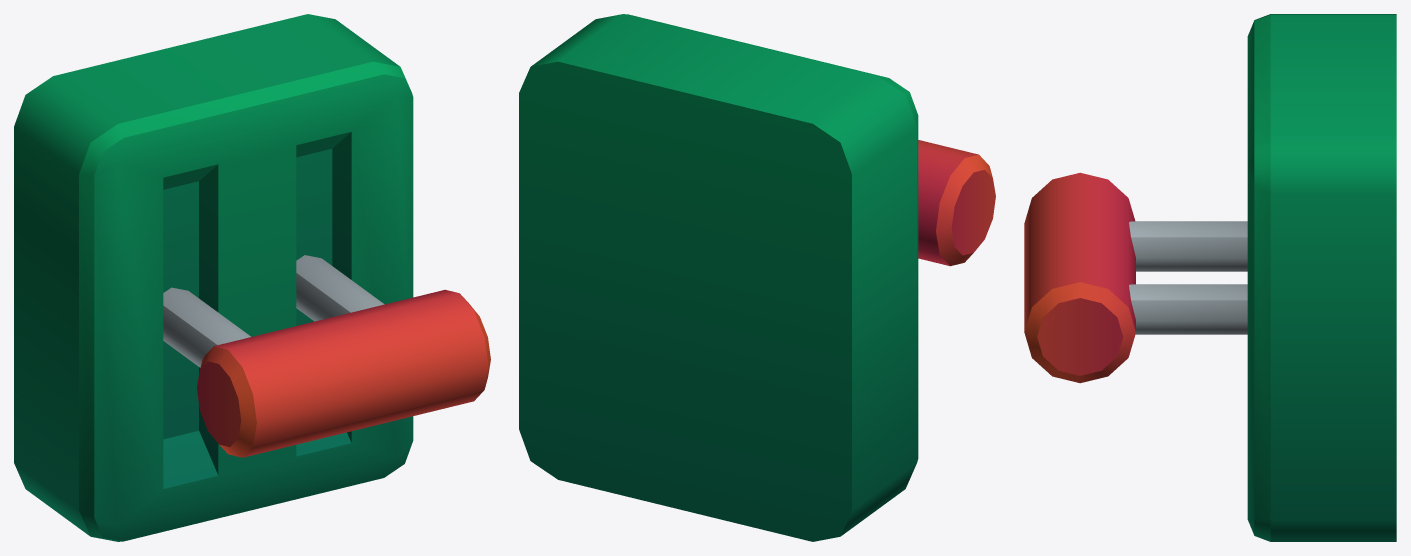
Rendered from lever_wall_base_B_green.glb.
3 renders of one model, left to right at view 1: azimuth 30°, elevation 25°; view 2: azimuth 150°, elevation 25°; view 3: azimuth 270°, elevation 25°, orthographic. The views are drawn at different scales.
Parts seen in each view (by area): view 1: lever_wall_base_B_green, lever_wall_B_green; view 2: lever_wall_base_B_green, lever_wall_B_green; view 3: lever_wall_base_B_green, lever_wall_B_green.
Boxes of the visible parts, x1=… form: lever_wall_base_B_green: x1=14, y1=14, x2=413, y2=541; lever_wall_B_green: x1=163, y1=255, x2=490, y2=457; lever_wall_base_B_green: x1=519, y1=14, x2=918, y2=541; lever_wall_B_green: x1=918, y1=140, x2=995, y2=266; lever_wall_base_B_green: x1=1247, y1=14, x2=1396, y2=541; lever_wall_B_green: x1=1024, y1=172, x2=1247, y2=383.
Bounding box in the file's own units: 1 × 1.2 × 1.
Materials: 1 (1 with a texture image).
